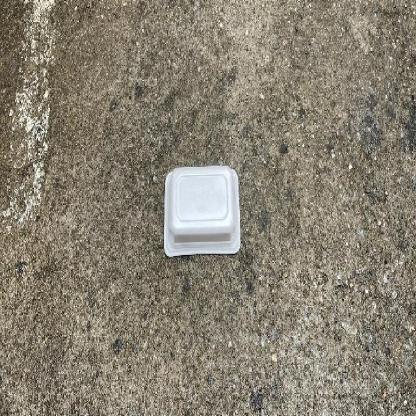Glass Cup: (164, 166, 240, 258), (164, 166, 240, 257)
